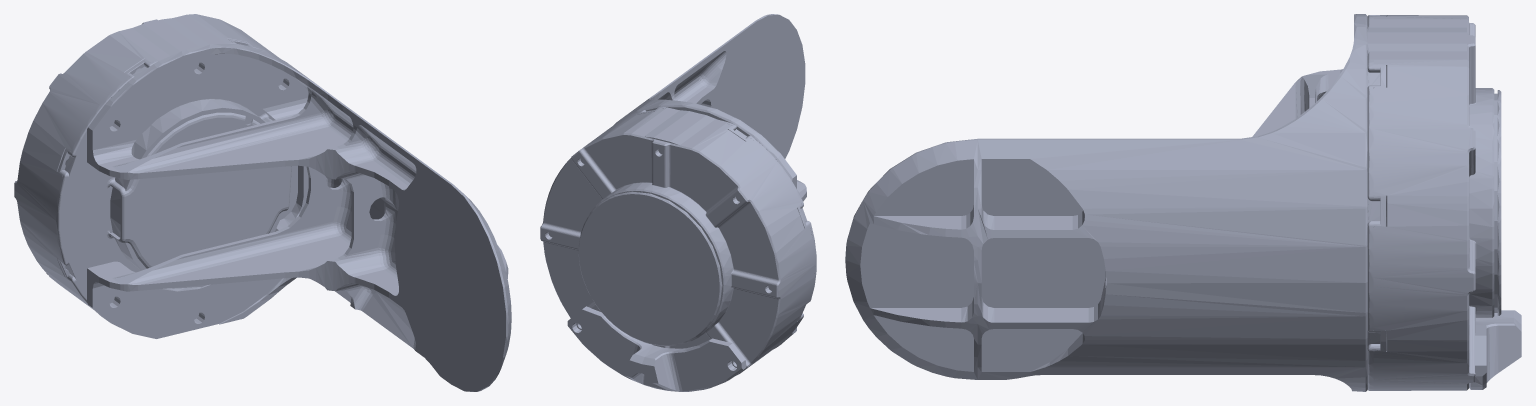
The model's file is left_shoulder_roll_link.obj.
The picture shows the model from 3 angles, left to right: view 1: azimuth 30°, elevation 25°; view 2: azimuth 150°, elevation 25°; view 3: azimuth 270°, elevation 25°; orthographic projection. The views are drawn at different scales.
Parts seen in each view (by area): view 1: left_shoulder_roll_link-mesh; view 2: left_shoulder_roll_link-mesh; view 3: left_shoulder_roll_link-mesh.
Part boxes in pixels (bbox=[...]): left_shoulder_roll_link-mesh: bbox=[14, 14, 511, 391]; left_shoulder_roll_link-mesh: bbox=[540, 14, 816, 391]; left_shoulder_roll_link-mesh: bbox=[845, 14, 1521, 391].
Size of the model in its own units: 0.0968 by 0.0964 by 0.1735.
